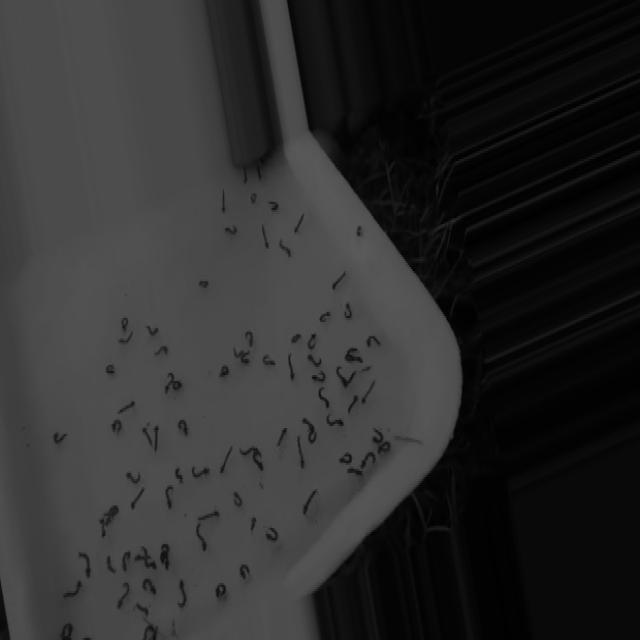larvas: (112, 575, 136, 616), (299, 408, 323, 449), (328, 263, 352, 299), (191, 455, 213, 494), (301, 479, 323, 518), (358, 441, 382, 474), (361, 372, 381, 411), (275, 413, 292, 458), (340, 343, 370, 368), (217, 437, 236, 476), (366, 321, 389, 353), (285, 342, 300, 391), (277, 230, 299, 263), (323, 412, 348, 441), (237, 552, 256, 590), (128, 479, 148, 515), (335, 362, 359, 392), (104, 494, 121, 534), (198, 497, 225, 522), (195, 520, 211, 562), (262, 522, 285, 551), (257, 216, 274, 254), (313, 384, 335, 411), (366, 423, 388, 450), (243, 513, 262, 544), (375, 430, 394, 461), (334, 451, 360, 473), (308, 349, 330, 375), (260, 350, 281, 376), (140, 543, 159, 571), (291, 209, 307, 242), (350, 220, 366, 253), (237, 440, 266, 458), (140, 576, 160, 602), (176, 576, 191, 610), (342, 300, 359, 330), (213, 576, 231, 604), (250, 457, 271, 481), (344, 465, 372, 483), (297, 433, 310, 471), (216, 179, 230, 214), (136, 623, 164, 640), (173, 450, 185, 489), (223, 220, 241, 246), (234, 485, 248, 515), (288, 325, 306, 348), (105, 550, 119, 578), (121, 547, 135, 575), (242, 329, 256, 357), (229, 343, 246, 366), (319, 306, 334, 332), (308, 368, 328, 387), (98, 510, 109, 544), (348, 388, 360, 419), (166, 485, 179, 513), (160, 552, 175, 576), (135, 599, 153, 618), (306, 325, 321, 347), (163, 371, 175, 396), (237, 347, 251, 368), (160, 535, 176, 553), (142, 423, 152, 450), (241, 166, 250, 196), (170, 376, 184, 395), (78, 552, 89, 575), (63, 581, 81, 595), (269, 200, 282, 219), (255, 160, 266, 182), (250, 190, 264, 207), (134, 555, 154, 564), (60, 624, 72, 638), (118, 402, 134, 412), (178, 418, 188, 434), (53, 432, 66, 444), (119, 330, 132, 342), (126, 471, 139, 483), (111, 418, 122, 432), (154, 344, 167, 355), (146, 326, 158, 334), (154, 426, 158, 450), (219, 365, 228, 375), (122, 318, 128, 332), (198, 279, 207, 287), (106, 365, 114, 373)
